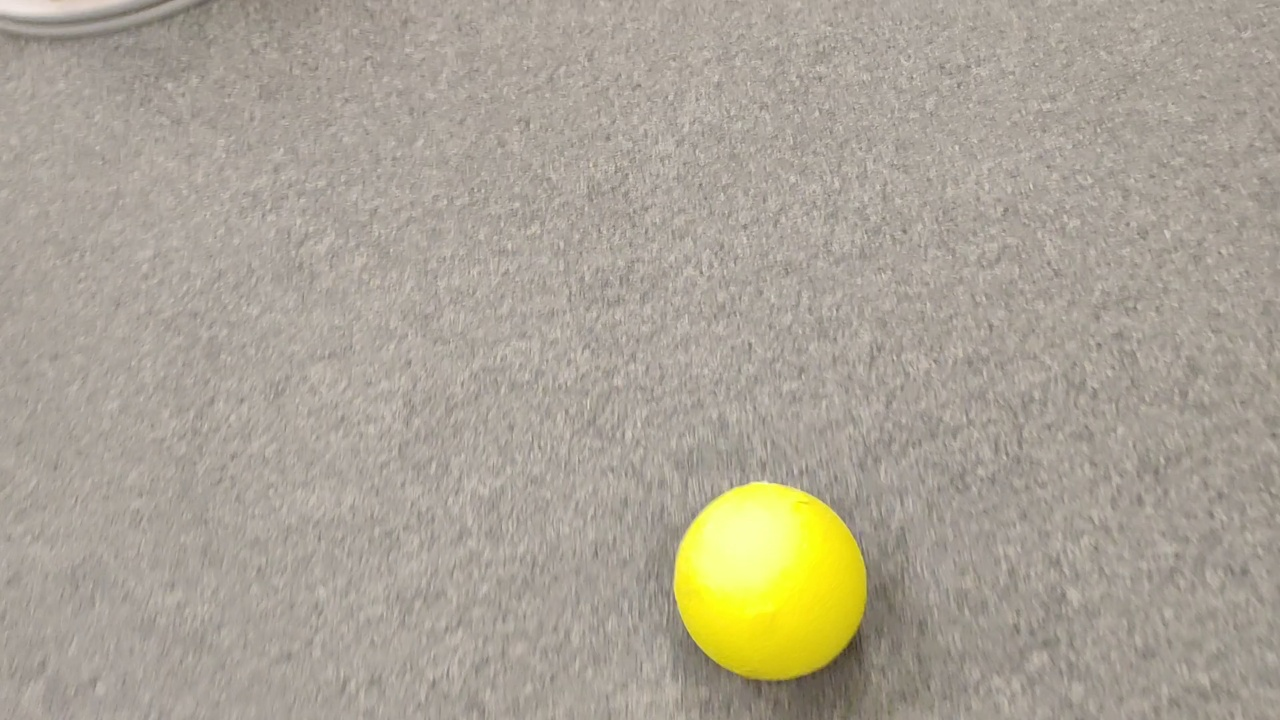Ball: (673, 479, 872, 678)
